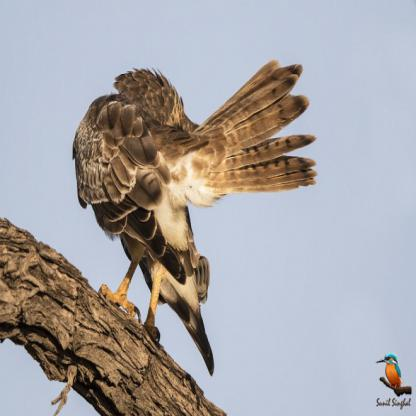Burung: (71, 61, 332, 378)
